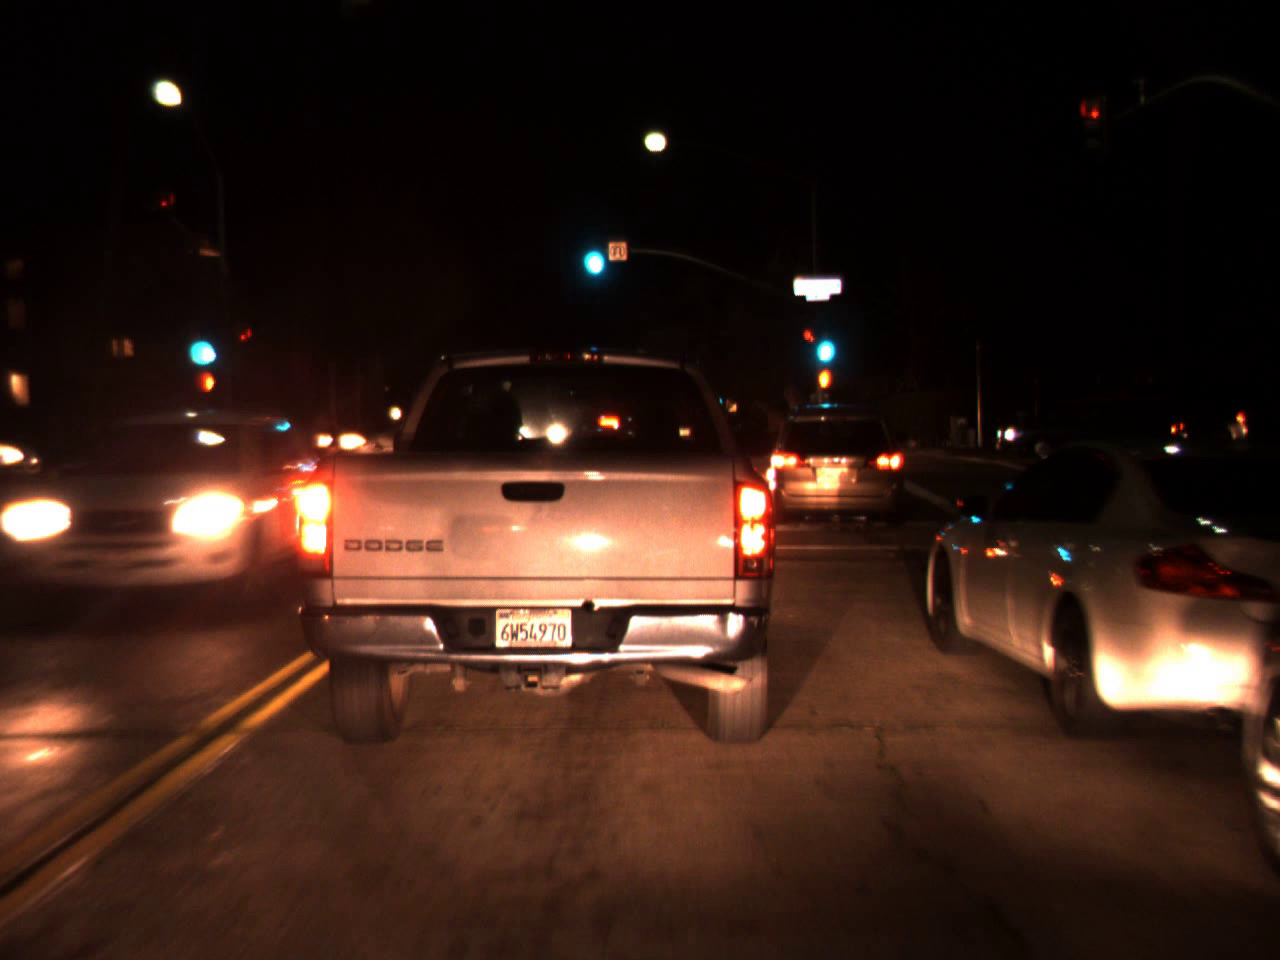go: (575, 219, 609, 285), (180, 313, 217, 370), (810, 312, 838, 372)
